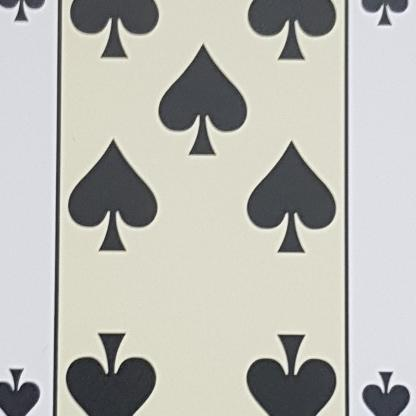7s: (346, 0, 415, 48), (0, 360, 58, 415), (350, 367, 415, 415)
